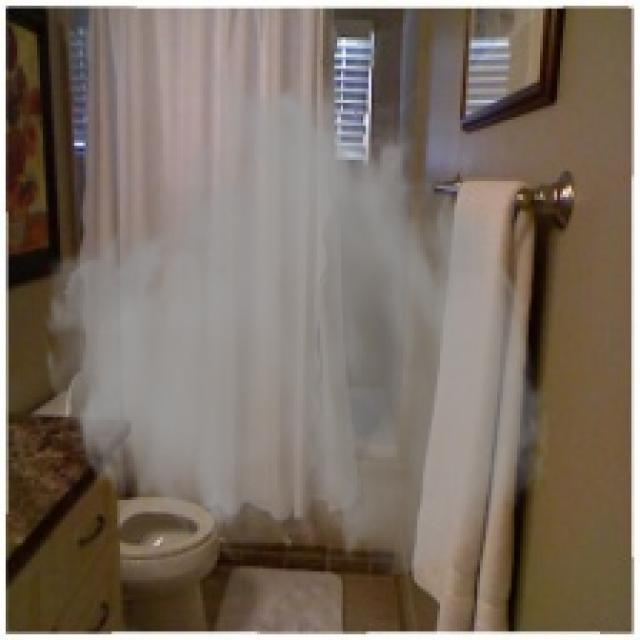Smoke: (39, 54, 554, 580)
